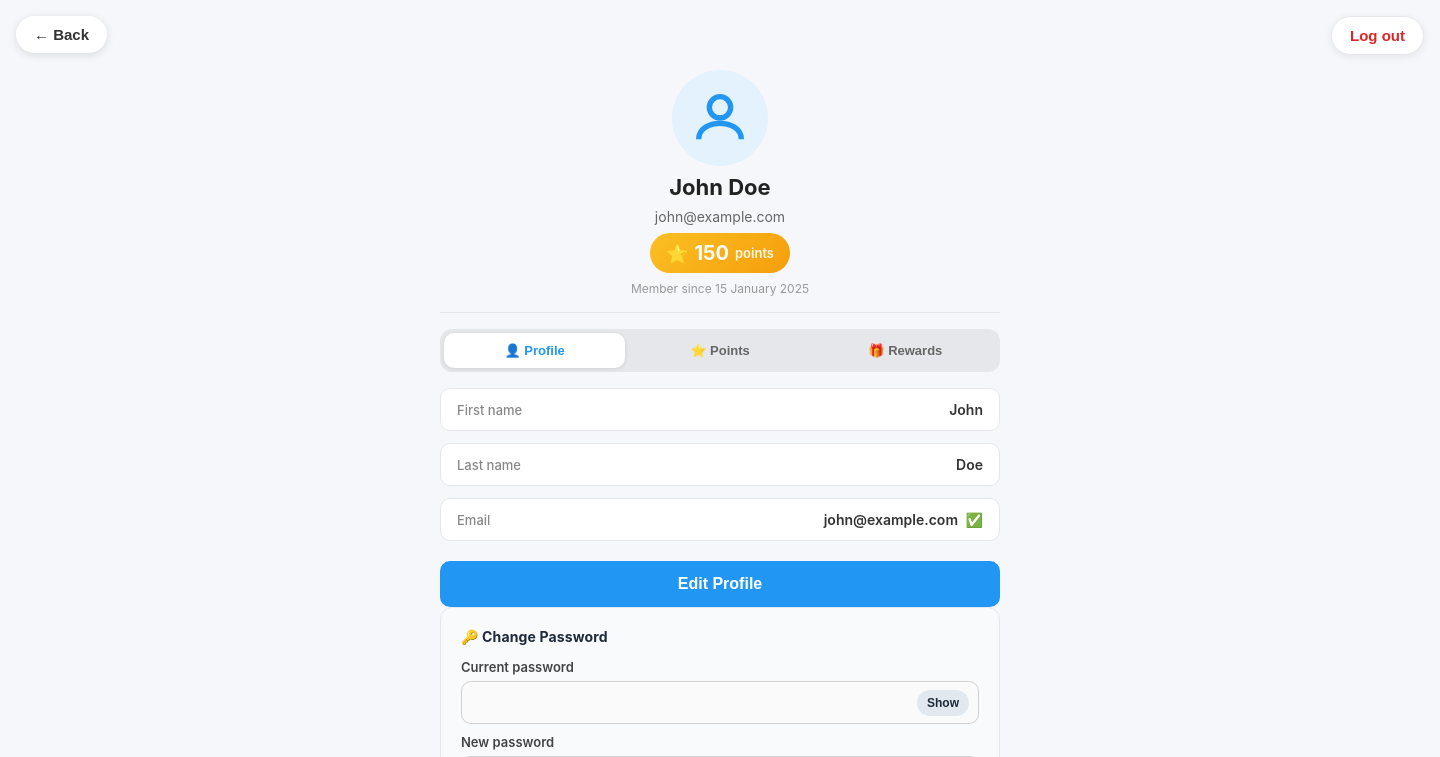
Test case: Profile Component › can switch to edit mode
Click the button "Edit Profile" at (720, 584), box [440, 561, 1000, 607]
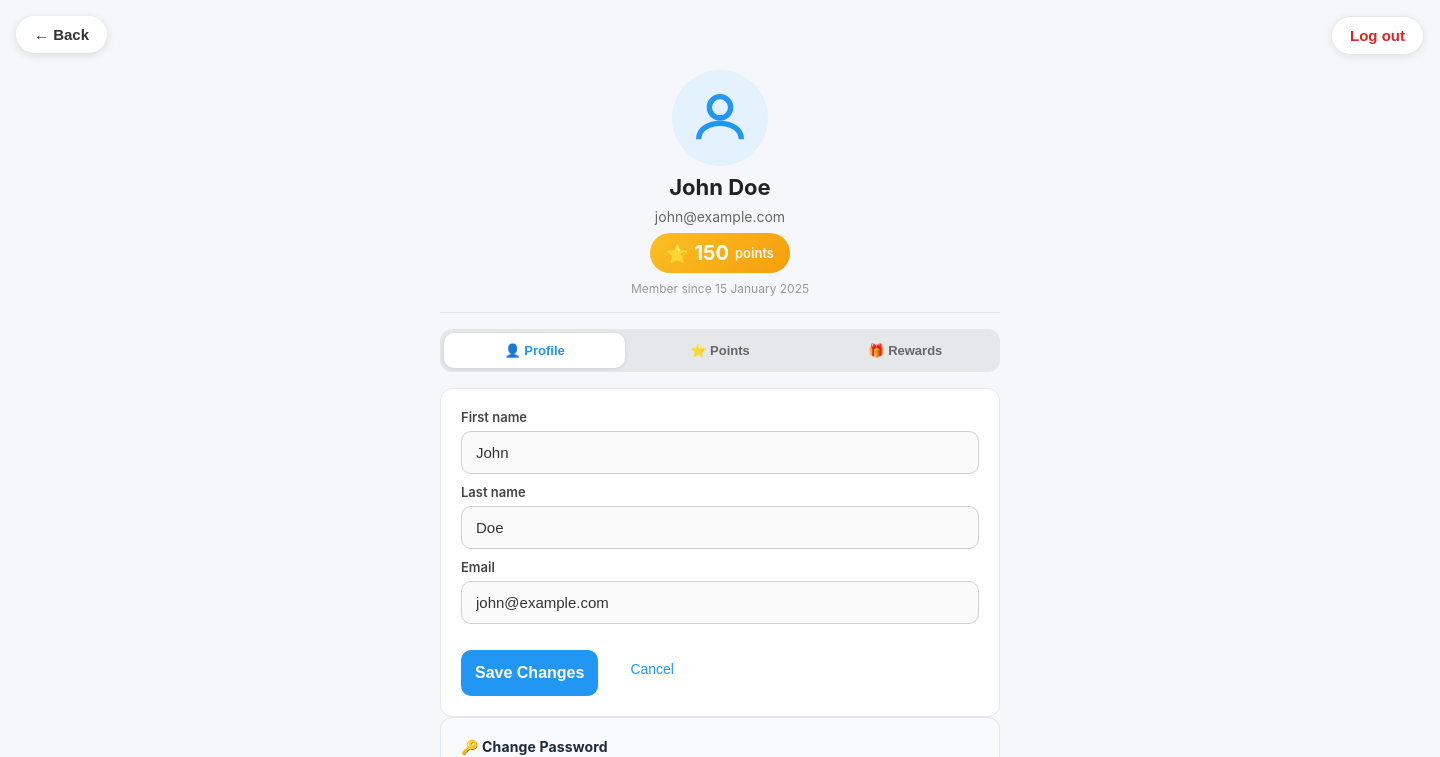
Now the field showing "John" is shown, box [461, 431, 979, 474]
Now the field showing "Doe" is shown, box [461, 506, 979, 549]
Now the field showing "john@example.com" is shown, box [461, 581, 979, 624]
